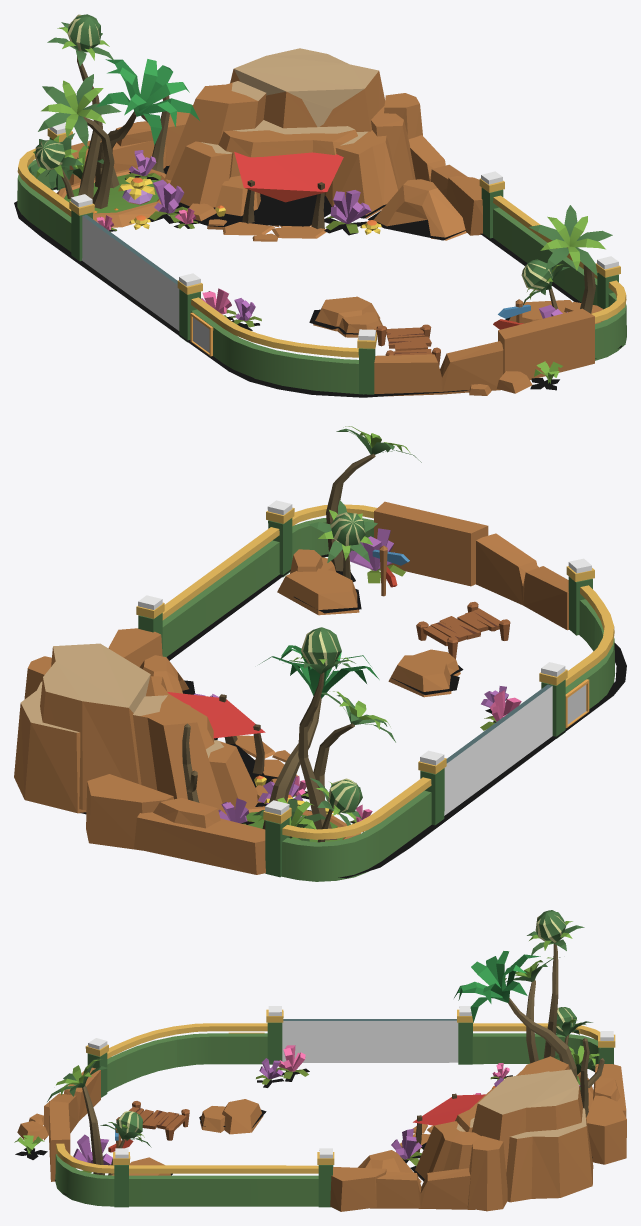
The model's file is xweilan_1009_4.FBX.
The picture shows the model from 3 angles, top to bottom: view 1: azimuth 30°, elevation 25°; view 2: azimuth 150°, elevation 25°; view 3: azimuth 270°, elevation 25°; orthographic projection. The views are drawn at different scales.
Parts seen in each view (by area): view 1: xweilan_1009_4; view 2: xweilan_1009_4; view 3: xweilan_1009_4.
Boxes of the visible parts, x1,y1,x2,y2 form: xweilan_1009_4: (14,14,626,397); xweilan_1009_4: (14,426,626,881); xweilan_1009_4: (14,910,626,1211).
Size of the model in its own units: 4508 by 2370 by 7486.
